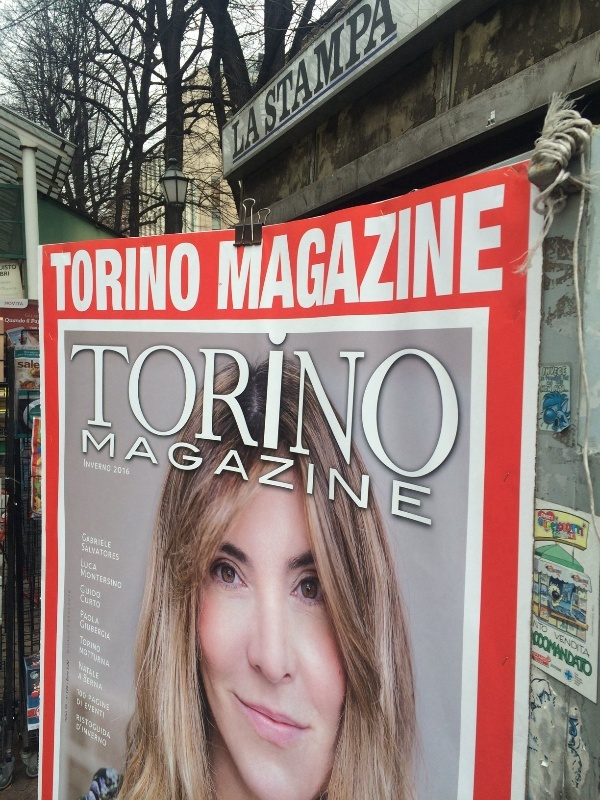text: (81, 331, 96, 486), (97, 331, 112, 486), (113, 331, 128, 486), (129, 331, 144, 486), (145, 331, 160, 486), (161, 331, 176, 486), (177, 331, 192, 486), (193, 331, 208, 486), (209, 331, 224, 486), (225, 331, 240, 486), (241, 331, 256, 486), (257, 331, 272, 486), (273, 331, 288, 486), (289, 331, 304, 486), (305, 331, 320, 486), (321, 331, 336, 486), (337, 331, 352, 486), (353, 331, 368, 486), (369, 331, 384, 486), (385, 331, 400, 486), (401, 331, 416, 486), (417, 331, 432, 486), (433, 331, 448, 486), (66, 331, 80, 486), (273, 1, 288, 137), (289, 1, 304, 137), (305, 1, 320, 137), (321, 1, 336, 137), (337, 1, 352, 137), (353, 1, 368, 137), (369, 1, 384, 137), (385, 1, 400, 137), (225, 180, 240, 316), (241, 180, 256, 316), (257, 180, 272, 316), (273, 180, 288, 316), (289, 180, 304, 316), (305, 180, 320, 316), (321, 180, 336, 316), (337, 180, 352, 316), (353, 180, 368, 316), (369, 180, 384, 316), (385, 180, 400, 316), (401, 180, 416, 316), (417, 180, 432, 316), (433, 180, 448, 316), (449, 180, 464, 316), (465, 180, 480, 316), (481, 180, 496, 316), (449, 331, 462, 486), (81, 428, 96, 531), (97, 428, 112, 531), (113, 428, 128, 531), (129, 428, 144, 531), (145, 428, 160, 531), (161, 428, 176, 531), (177, 428, 192, 531), (193, 428, 208, 531), (209, 428, 224, 531), (225, 428, 240, 531), (241, 428, 256, 531), (257, 428, 272, 531), (273, 428, 288, 531), (289, 428, 304, 531), (305, 428, 320, 531), (321, 428, 336, 531), (337, 428, 352, 531), (353, 428, 368, 531), (369, 428, 384, 531), (385, 428, 400, 531), (401, 428, 416, 531), (417, 428, 432, 531), (497, 180, 507, 316), (65, 240, 80, 316), (81, 240, 96, 316), (97, 240, 112, 316), (113, 240, 128, 316), (129, 240, 144, 316), (145, 240, 160, 316), (161, 240, 176, 316), (177, 240, 192, 316), (50, 240, 64, 316), (241, 105, 256, 162), (67, 659, 80, 724), (266, 1, 272, 137), (577, 629, 593, 679), (545, 629, 560, 679), (561, 629, 576, 679), (69, 590, 80, 654), (193, 240, 201, 316), (533, 629, 544, 679), (220, 180, 224, 316), (232, 105, 240, 162), (561, 630, 576, 659), (577, 630, 591, 659), (81, 713, 96, 740), (81, 721, 96, 748), (545, 511, 560, 538), (561, 511, 576, 538), (97, 713, 110, 740), (81, 619, 96, 642), (81, 646, 96, 669), (81, 568, 96, 590), (97, 568, 112, 590), (97, 619, 111, 642), (97, 542, 112, 562), (81, 634, 96, 654), (81, 660, 96, 680), (97, 646, 110, 669), (82, 542, 96, 562), (97, 721, 106, 748), (97, 533, 112, 549), (81, 584, 96, 600), (81, 594, 96, 610), (81, 610, 96, 626), (257, 105, 261, 162), (97, 695, 110, 712), (81, 558, 96, 572), (83, 533, 96, 549), (84, 674, 96, 691), (553, 630, 560, 659), (113, 568, 122, 590), (97, 459, 111, 473), (532, 618, 544, 634), (577, 511, 584, 538), (85, 702, 96, 719), (83, 459, 96, 473), (545, 366, 560, 377), (538, 511, 544, 538), (114, 465, 128, 476), (533, 651, 544, 664), (113, 542, 120, 562), (561, 531, 576, 540), (18, 360, 32, 369), (577, 672, 584, 690), (545, 385, 560, 393), (89, 695, 96, 712), (97, 702, 104, 719), (76, 713, 80, 740), (76, 721, 80, 748), (17, 318, 32, 325), (433, 428, 434, 531), (97, 674, 103, 691), (551, 663, 560, 674), (18, 351, 32, 358), (3, 264, 16, 271), (97, 634, 101, 654), (5, 318, 16, 325), (1, 272, 16, 277), (561, 366, 567, 377), (81, 688, 86, 701), (97, 584, 101, 600), (97, 594, 101, 610), (33, 360, 40, 369), (553, 531, 560, 540), (5, 301, 16, 306), (33, 351, 40, 358), (97, 610, 100, 626), (545, 618, 548, 634), (33, 318, 39, 325), (97, 660, 99, 680), (77, 688, 80, 701), (545, 651, 548, 664), (26, 313, 32, 319), (33, 313, 39, 319), (17, 301, 24, 306), (33, 326, 40, 331), (540, 385, 544, 393), (561, 385, 565, 393), (77, 698, 80, 707), (79, 660, 80, 680), (575, 672, 576, 690), (29, 326, 32, 331), (97, 558, 98, 572), (543, 366, 544, 377), (561, 663, 562, 674), (81, 698, 82, 707), (79, 672, 80, 680), (81, 672, 82, 680)
